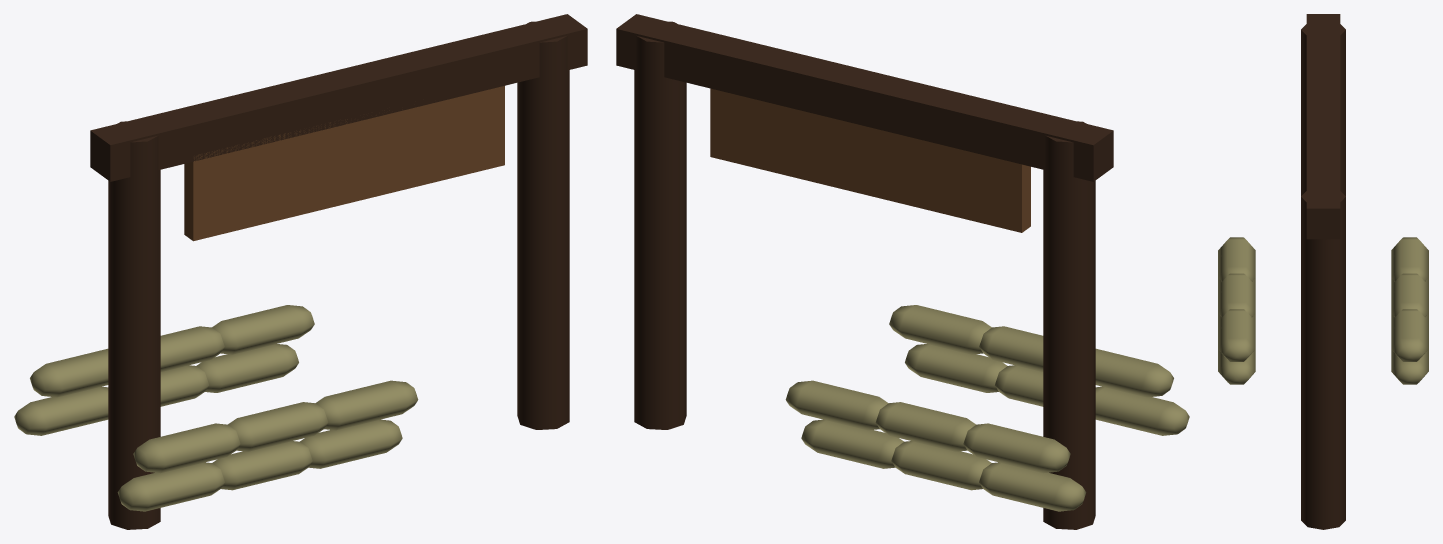
The model's file is firebase-gate.glb.
The picture shows the model from 3 angles, left to right: view 1: azimuth 30°, elevation 25°; view 2: azimuth 150°, elevation 25°; view 3: azimuth 270°, elevation 25°; orthographic projection. The views are drawn at different scales.
Parts seen in each view (by area): view 1: crossBeam, signBoard, rightPost, leftPost, gateBagLeft2_1, gateBagLeft1_1, gateBagRight2_3, gateBagLeft2_3, gateBagLeft2_2, gateBagRight1_1, gateBagLeft1_3, gateBagRight1_3 (+4 smaller); view 2: crossBeam, signBoard, rightPost, leftPost, gateBagRight2_1, gateBagRight1_1, gateBagLeft2_3, gateBagRight2_3, gateBagRight2_2, gateBagLeft1_1, gateBagRight1_3, gateBagLeft1_3 (+4 smaller); view 3: rightPost, crossBeam, leftPost, gateBagLeft2_3, gateBagRight2_3, gateBagLeft2_2, gateBagRight2_2, gateBagLeft2_1, gateBagRight2_1, gateBagLeft1_3, gateBagRight1_3.
Part boxes in pixels (x1,y1,x2,y2): crossBeam: (90, 14, 587, 181); signBoard: (184, 86, 504, 241); rightPost: (517, 21, 569, 429); leftPost: (108, 121, 160, 529); gateBagLeft2_1: (133, 423, 240, 473); gateBagLeft1_1: (117, 462, 224, 511); gateBagRight2_3: (212, 305, 314, 354); gateBagLeft2_3: (315, 380, 418, 430); gateBagLeft2_2: (228, 402, 328, 451); gateBagRight1_1: (14, 386, 108, 435); gateBagLeft1_3: (300, 419, 402, 468); gateBagRight1_3: (196, 344, 298, 392); crossBeam: (616, 14, 1113, 181); signBoard: (710, 88, 1030, 232); rightPost: (634, 21, 686, 429); leftPost: (1043, 121, 1095, 529); gateBagRight2_1: (963, 423, 1070, 473); gateBagRight1_1: (979, 462, 1086, 511); gateBagLeft2_3: (889, 305, 991, 354); gateBagRight2_3: (785, 380, 888, 430); gateBagRight2_2: (875, 402, 975, 451); gateBagLeft1_1: (1095, 386, 1189, 435); gateBagRight1_3: (801, 419, 903, 468); gateBagLeft1_3: (905, 344, 1007, 392); rightPost: (1301, 191, 1345, 529); crossBeam: (1306, 14, 1340, 239); leftPost: (1301, 24, 1345, 195); gateBagLeft2_3: (1218, 309, 1255, 361); gateBagRight2_3: (1391, 309, 1428, 361); gateBagLeft2_2: (1218, 273, 1255, 317); gateBagRight2_2: (1391, 273, 1428, 317); gateBagLeft2_1: (1218, 237, 1255, 281); gateBagRight2_1: (1391, 237, 1428, 281); gateBagLeft1_3: (1218, 349, 1255, 384); gateBagRight1_3: (1391, 349, 1428, 384).
Size of the model in its own units: 2.62 by 1.91 by 1.12.
